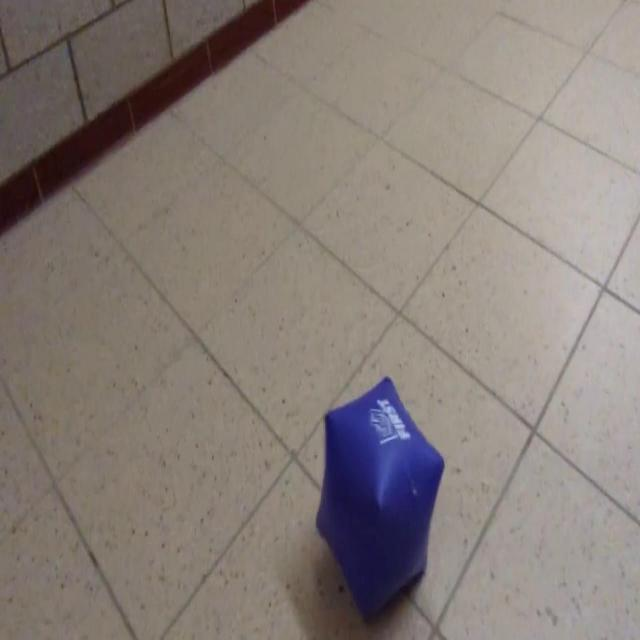frc_cube: (311, 366, 446, 626)
